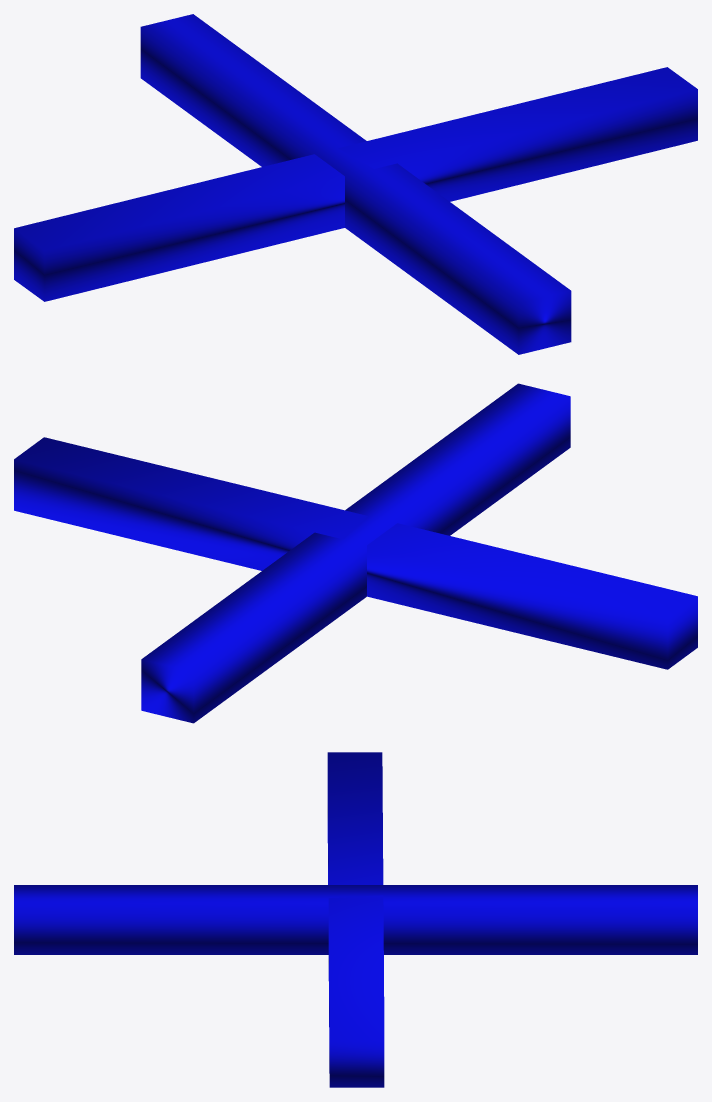
Rendered from batu.glb.
3 renders of one model, top to bottom at view 1: azimuth 30°, elevation 25°; view 2: azimuth 150°, elevation 25°; view 3: azimuth 270°, elevation 25°, orthographic. The views are drawn at different scales.
Visible parts, largest first — view 1: 立方体; view 2: 立方体; view 3: 立方体.
Part boxes in pixels (left/top/right/bottom): 立方体: left=14, top=14, right=697, bottom=354; 立方体: left=14, top=383, right=697, bottom=723; 立方体: left=14, top=752, right=697, bottom=1087.
Size of the model in its own units: 2 by 0.1525 by 2.
